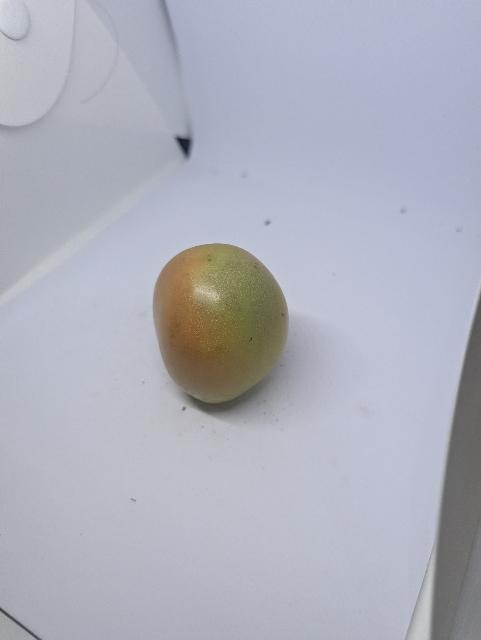breaker: (151, 243, 294, 408)
